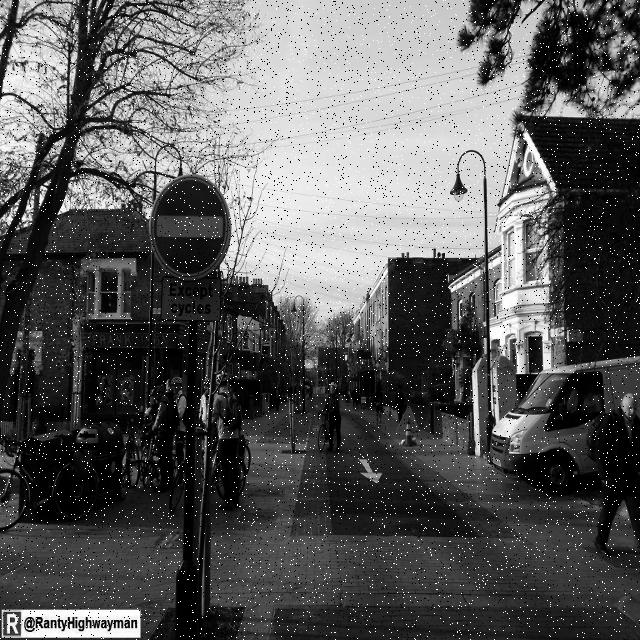no entry: (149, 175, 228, 277)
